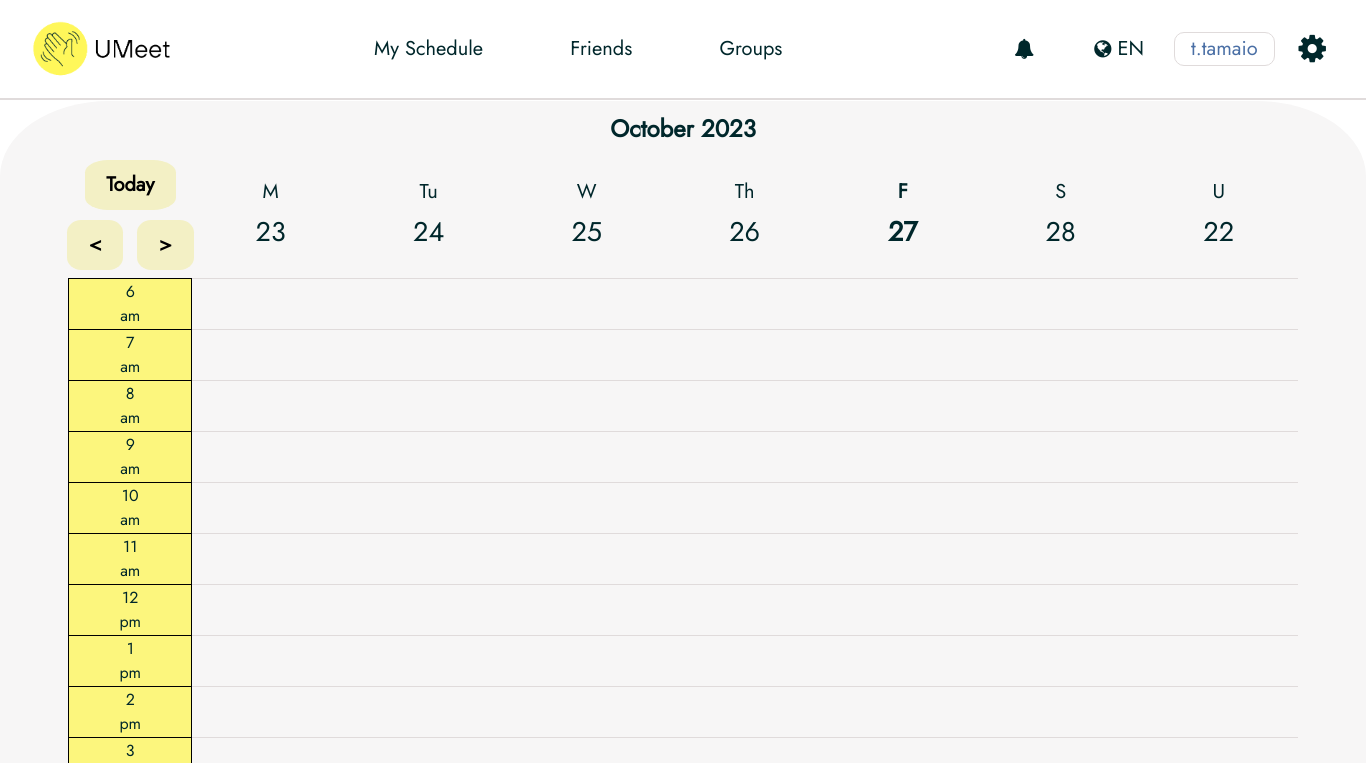
Test case: changes language
This screenshot has width=1366, height=763.
Click the button titled "Language".
click(1119, 49)  # box [1088,32,1150,66]
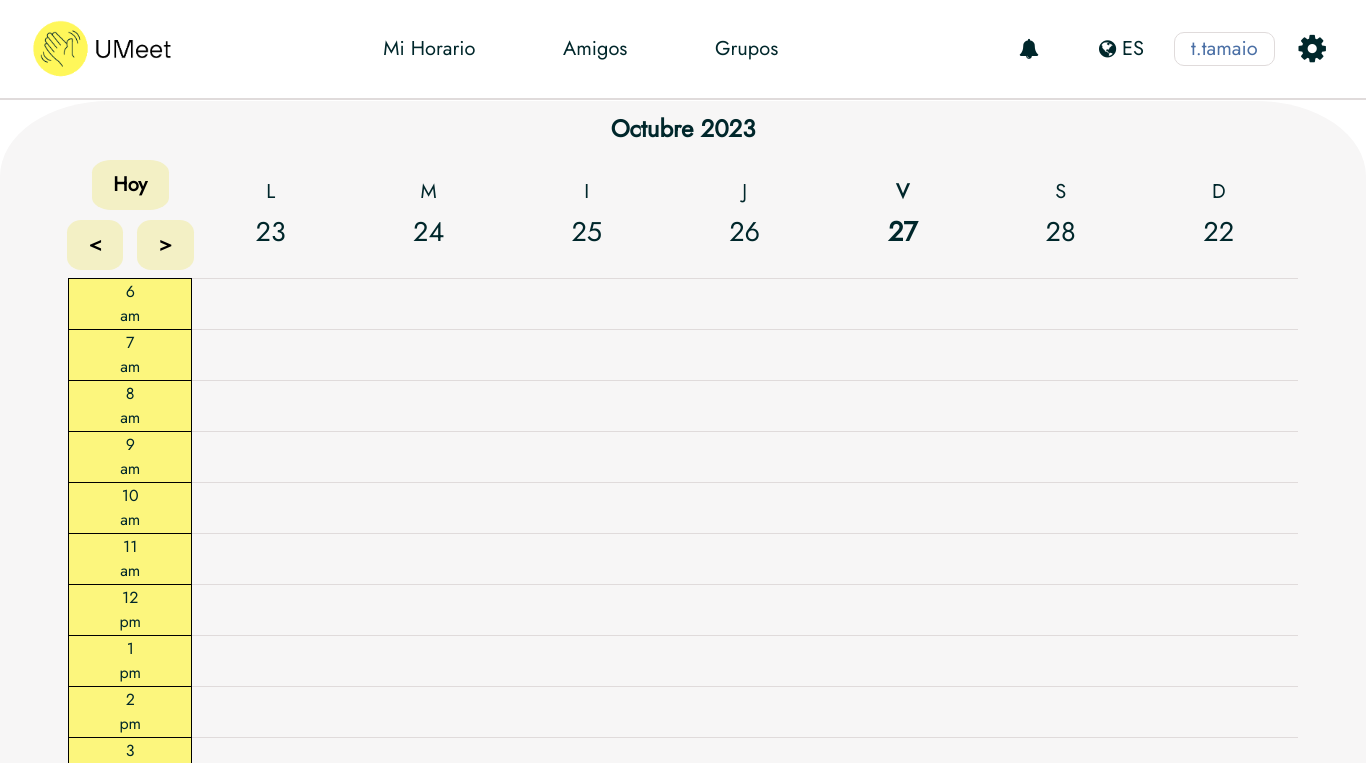
Check: the button titled "Language" reads "ES", box [1093,32,1150,66]
